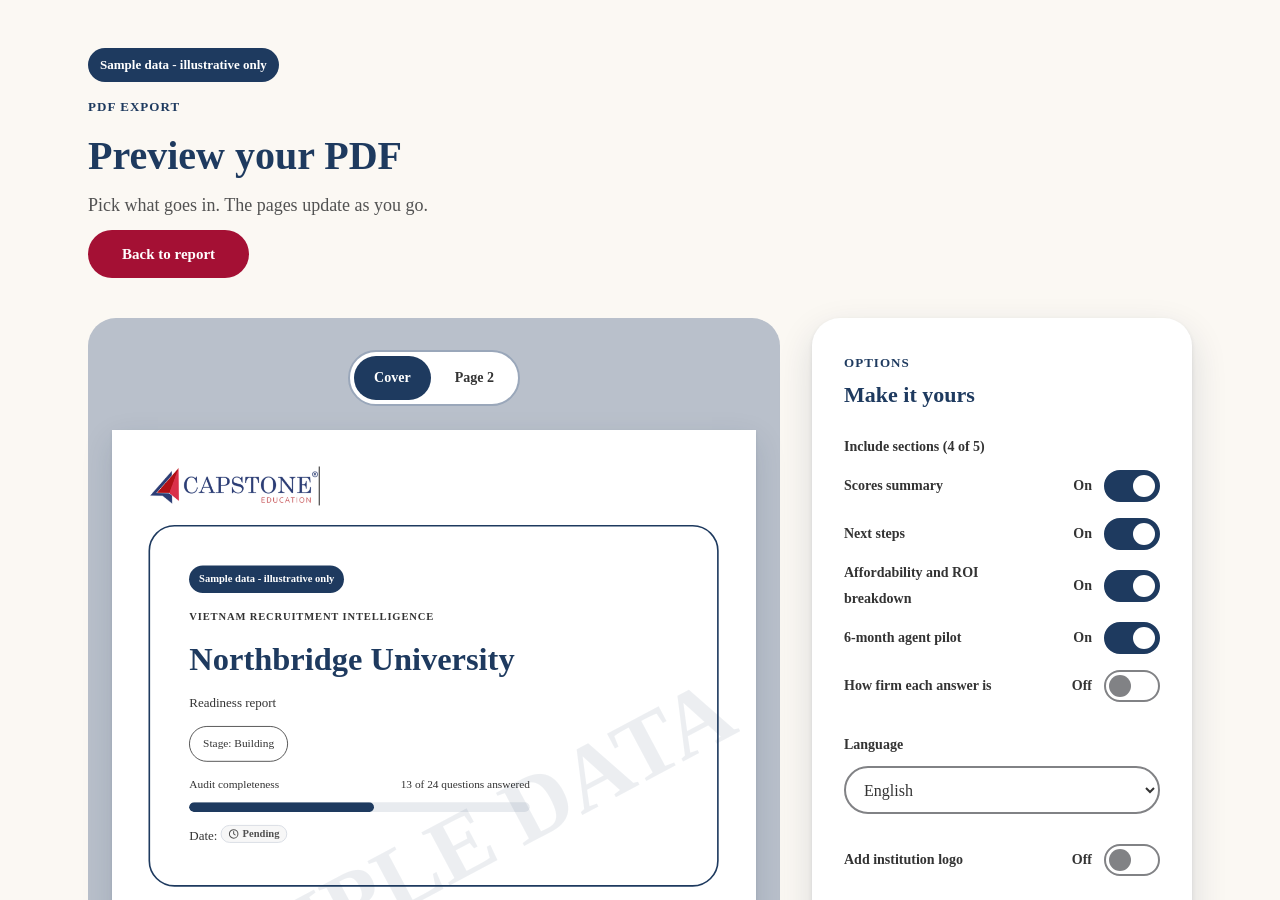
Test case: PdfExportPage › switches the page shown and announces it
Click the button "Page 2".
click(474, 378)  # box [435,356,514,400]
(page scrolled)
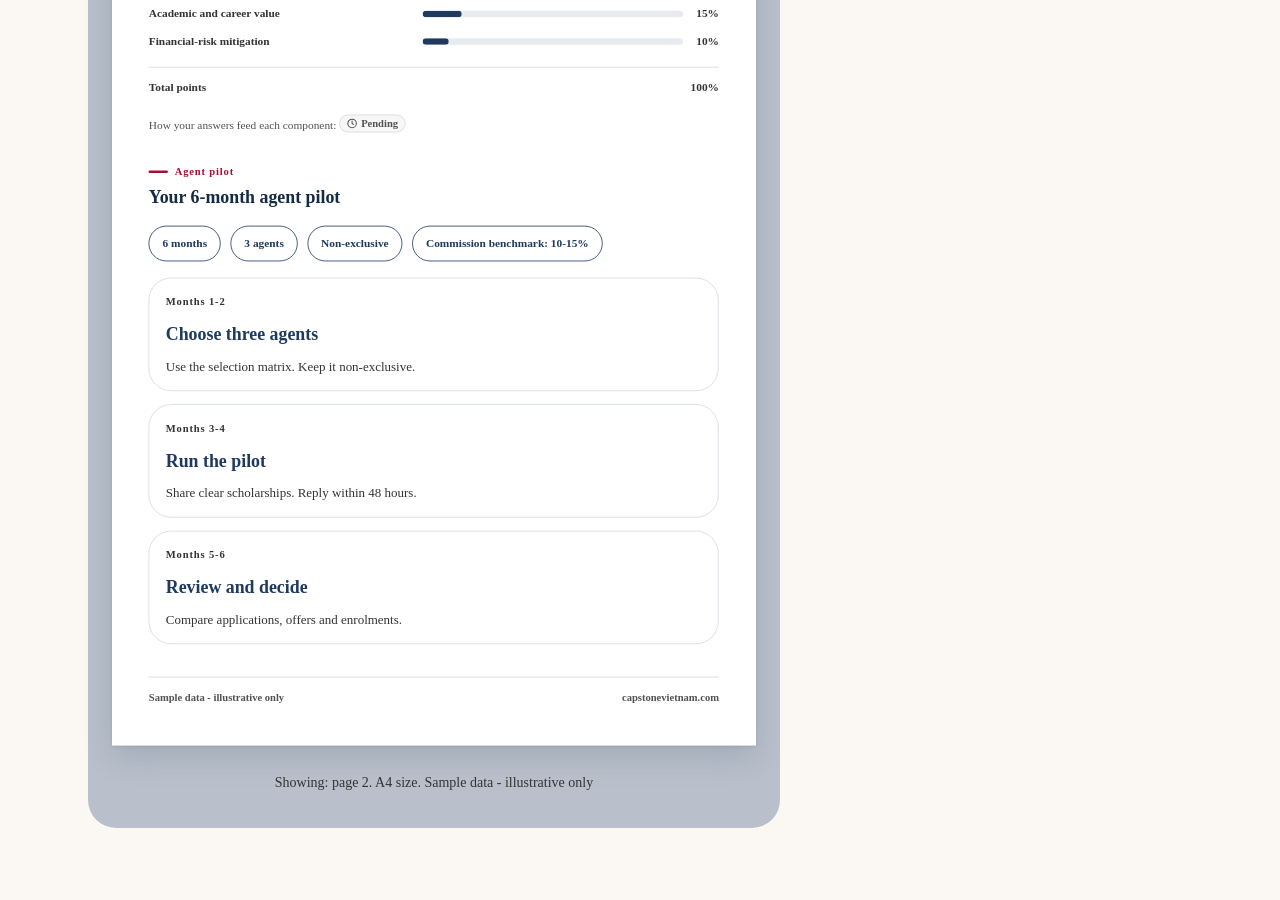
Check: the text "Showing: page 2. A4 size. Sample data - illustrative only" is shown, box [275,775,593,790]
